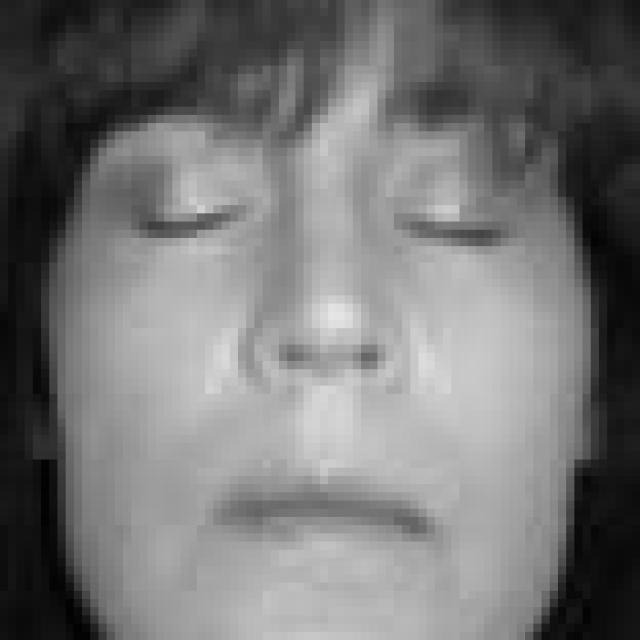real: (54, 0, 603, 640), (116, 150, 530, 280)
